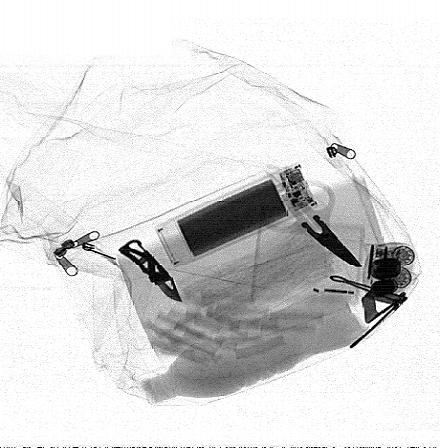Knife: (119, 240, 184, 308)
Powerbank: (154, 161, 318, 270)
Scissors: (259, 180, 366, 271)
